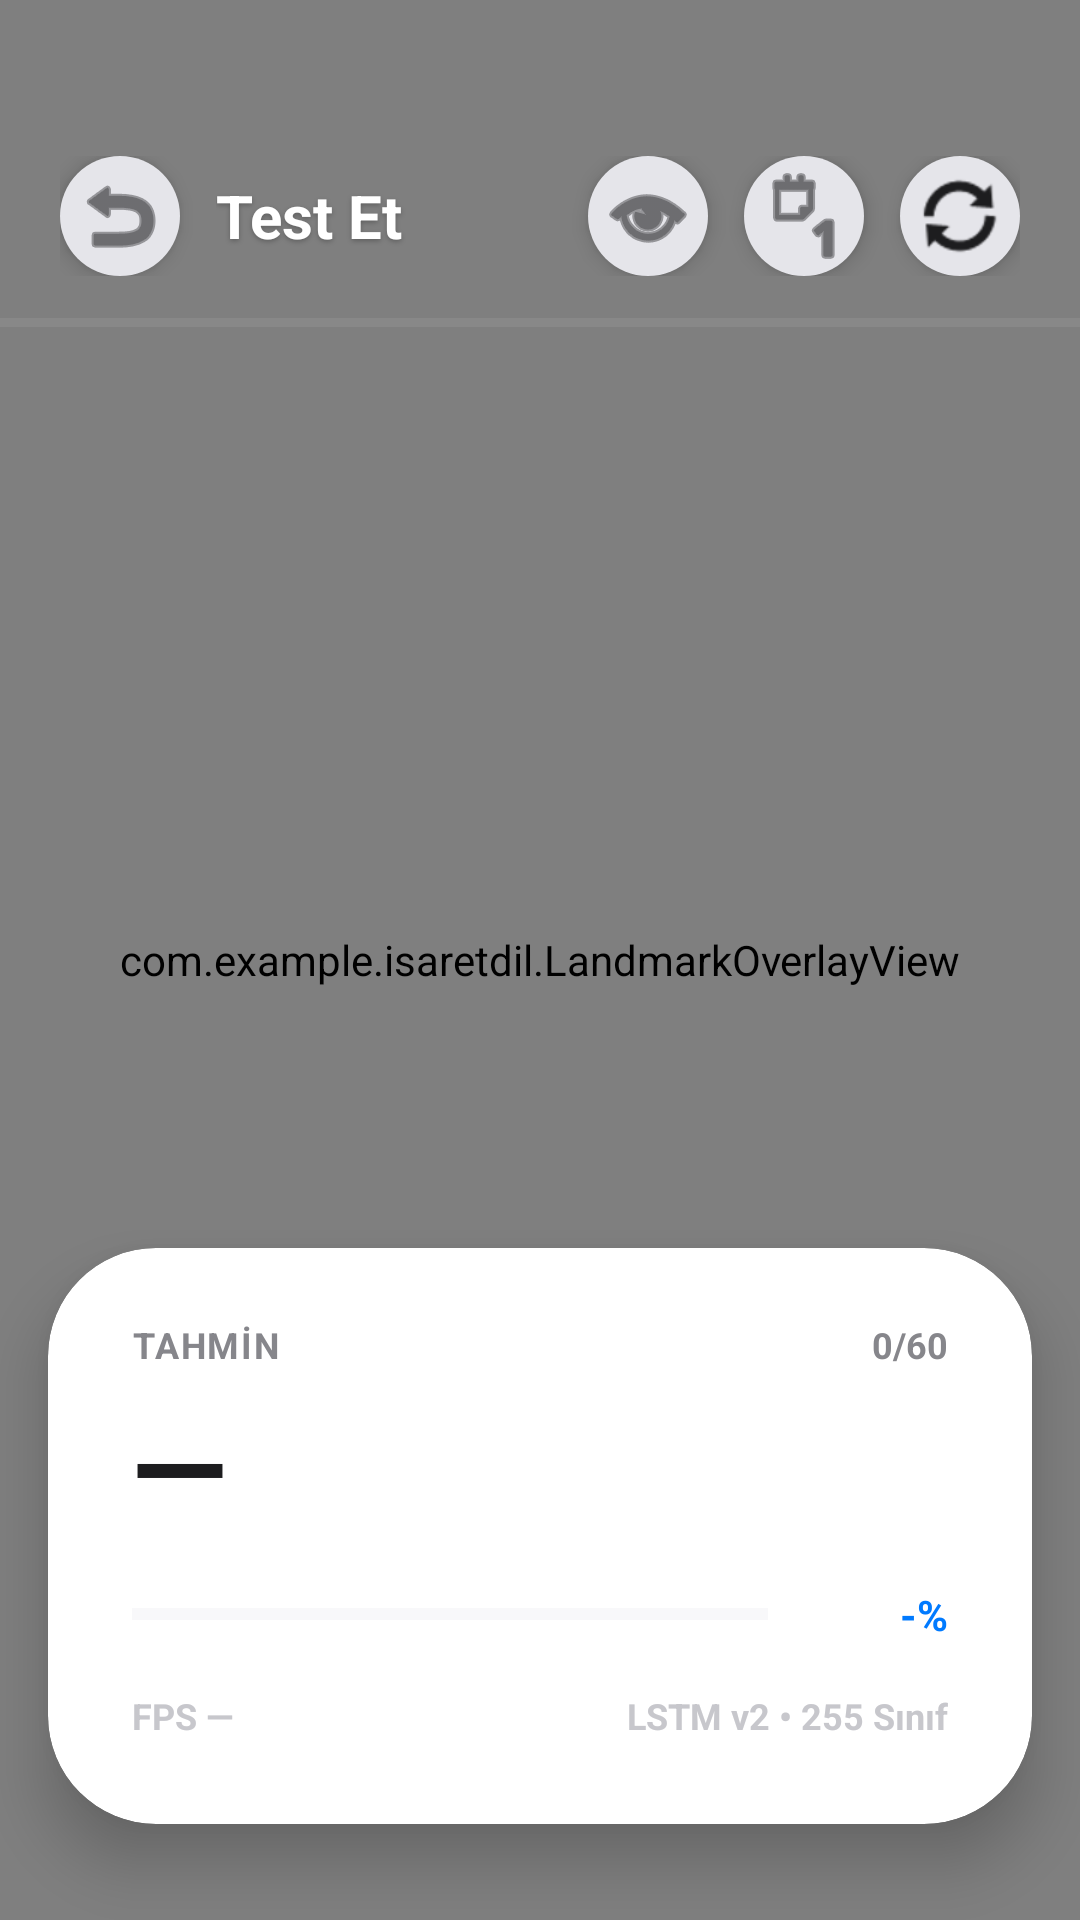

Screen size 1080x1920. Icon name, then its box in pixels as bbox=[x1, y1, x2, y2]:
day: bbox=[744, 156, 864, 276]
popup sync: bbox=[900, 156, 1020, 276]
revert: bbox=[60, 156, 180, 276]
